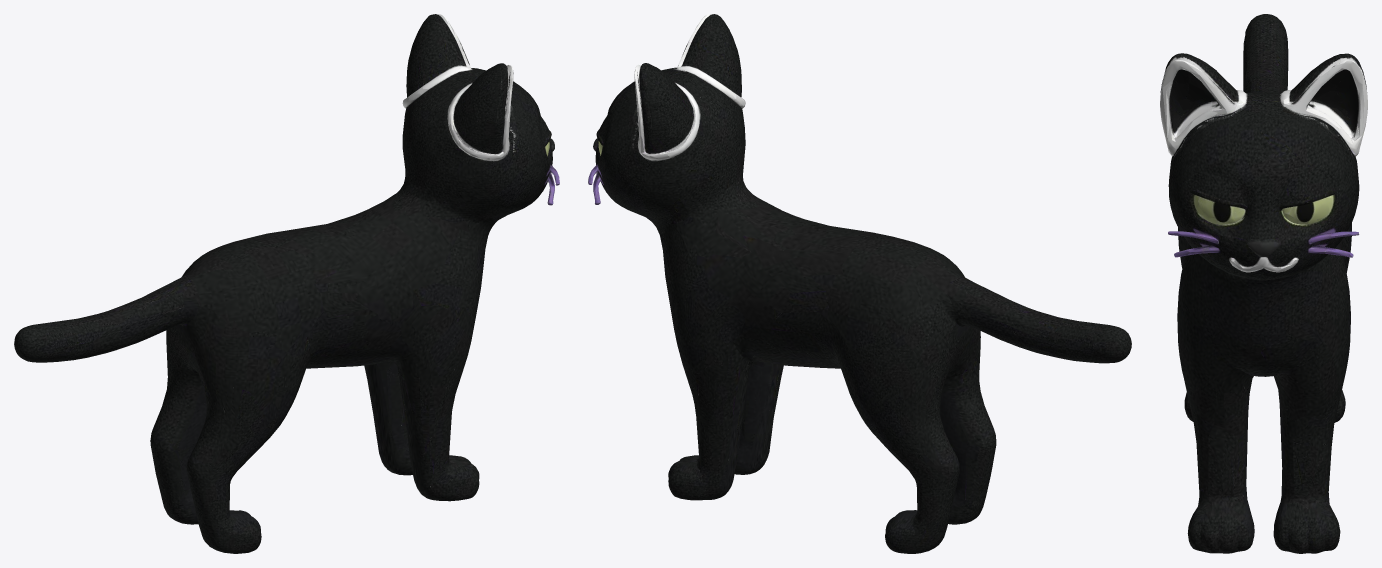
The model's file is SUGARSOOT.glb.
The picture shows the model from 3 angles, left to right: view 1: azimuth 30°, elevation 25°; view 2: azimuth 150°, elevation 25°; view 3: azimuth 270°, elevation 25°; orthographic projection. The views are drawn at different scales.
Parts seen in each view (by area): view 1: fit; view 2: fit; view 3: fit.
Boxes of the visible parts, x1,y1,x2,y2 form: fit: [14, 14, 559, 553]; fit: [588, 14, 1131, 553]; fit: [1160, 14, 1367, 553].
Size of the model in its own units: 1.3 by 1 by 0.3688.
1 material, 1 textured.
